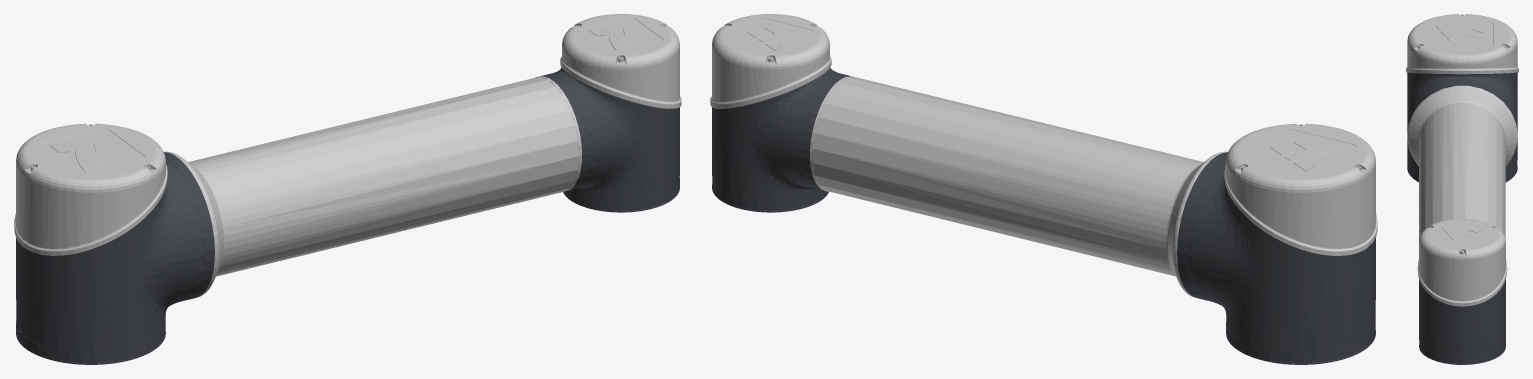
The picture shows the model from 3 angles, left to right: view 1: azimuth 30°, elevation 25°; view 2: azimuth 150°, elevation 25°; view 3: azimuth 270°, elevation 25°; orthographic projection. The views are drawn at different scales.
Visible parts, largest first — view 1: GBT-C12A-200.00-3; view 2: GBT-C12A-200.00-3; view 3: GBT-C12A-200.00-3.
Boxes of the visible parts, x1,y1,x2,y2 form: GBT-C12A-200.00-3: (14,14,681,364); GBT-C12A-200.00-3: (710,14,1377,364); GBT-C12A-200.00-3: (1406,14,1518,364).
Bounding box in the file's own units: 0.75 × 0.1535 × 0.2003.
Materials: 1 (1 with a texture image).
